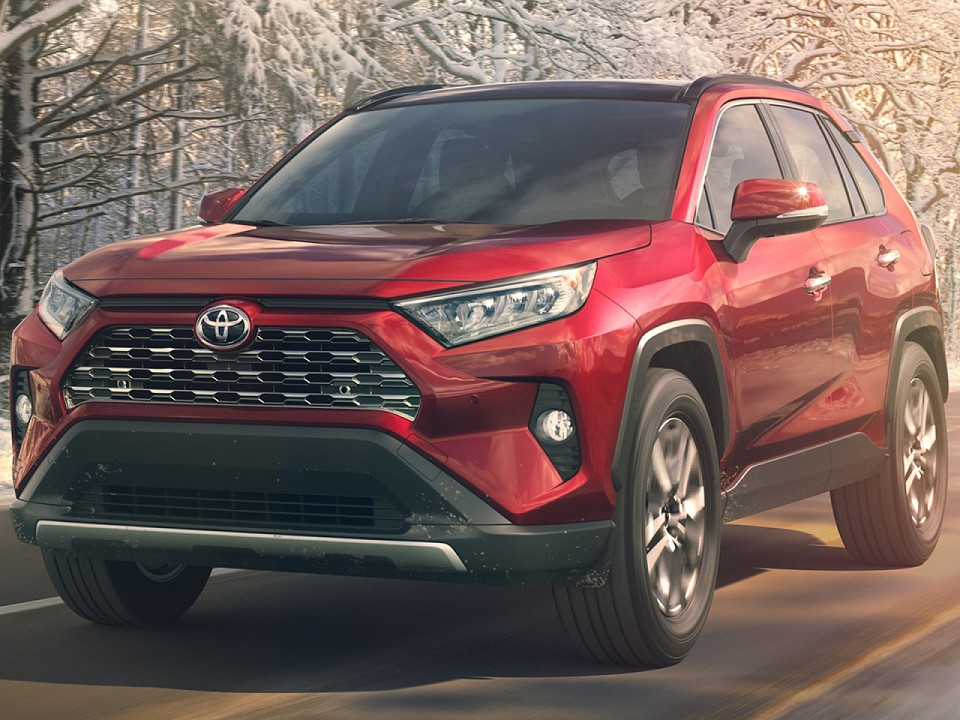Carro: (11, 71, 960, 651)
